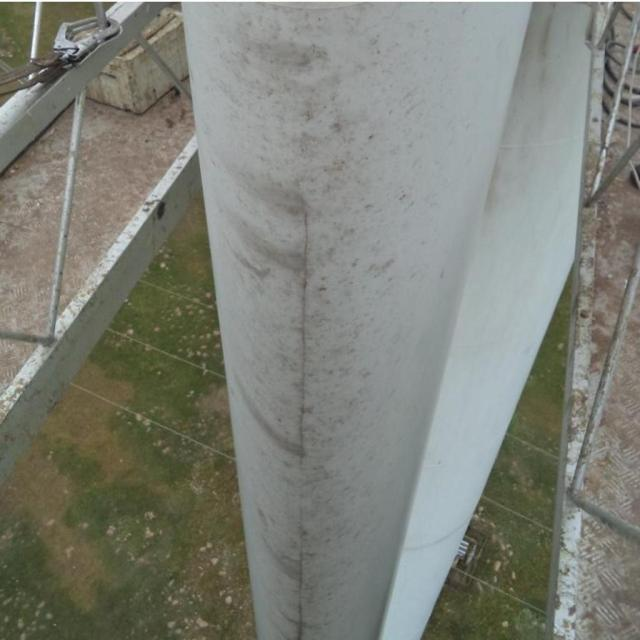crack: (296, 212, 311, 461), (291, 509, 307, 639)
